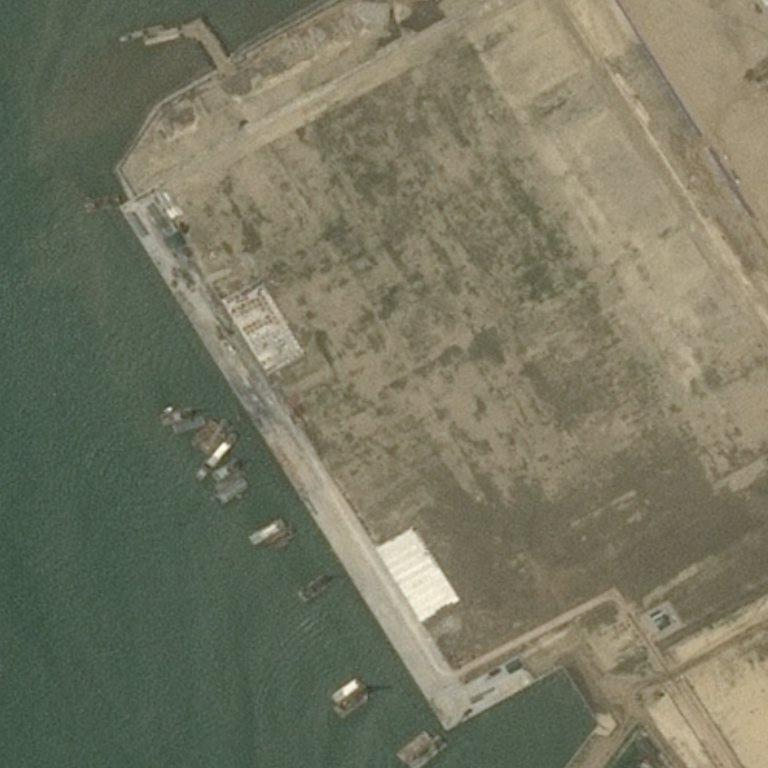ship: (204, 431, 239, 469), (248, 514, 285, 547), (37, 21, 87, 44), (331, 676, 360, 704), (120, 37, 124, 41), (333, 697, 336, 701), (252, 538, 255, 542), (232, 434, 236, 437), (47, 518, 52, 520), (353, 678, 357, 680), (157, 1, 161, 3), (6, 29, 8, 32), (214, 459, 215, 463), (52, 459, 55, 460), (356, 684, 358, 684), (282, 521, 282, 524)
